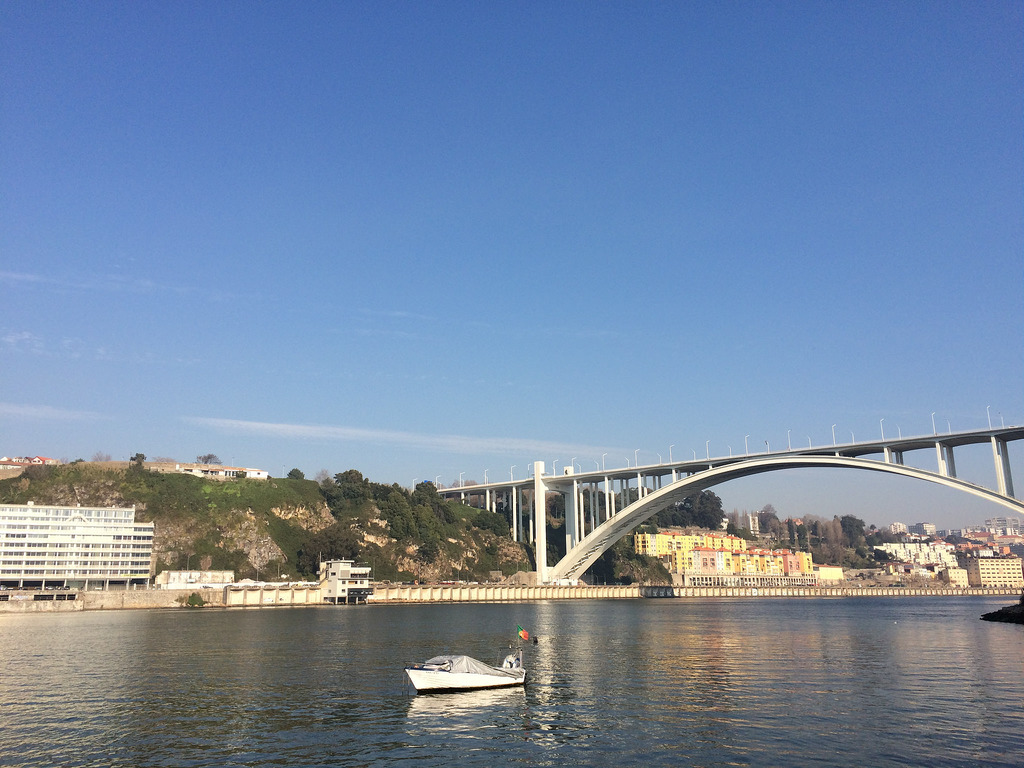arrabida: (436, 419, 1023, 587)
